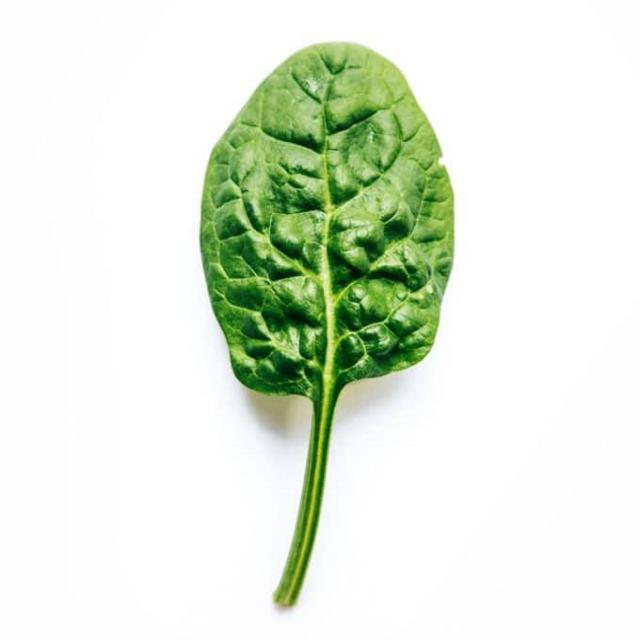Spinach: (182, 34, 465, 624)
